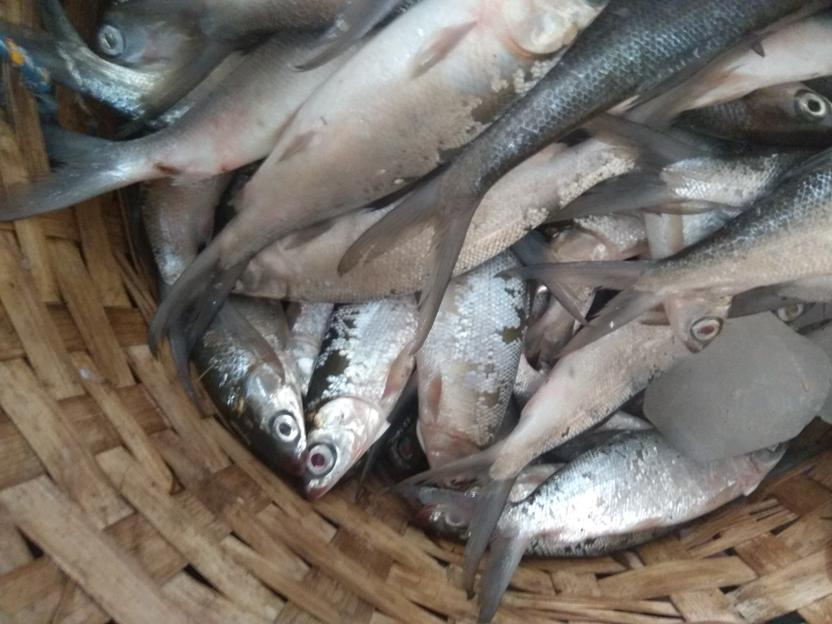Fish head: (295, 394, 393, 499), (238, 358, 308, 474), (744, 81, 831, 145), (663, 287, 733, 354)
Fish tail: (336, 170, 483, 358), (391, 437, 515, 597), (391, 477, 521, 624), (112, 1, 236, 142), (491, 257, 662, 359), (546, 109, 697, 223), (1, 124, 120, 223), (150, 241, 246, 357), (3, 1, 88, 91)
